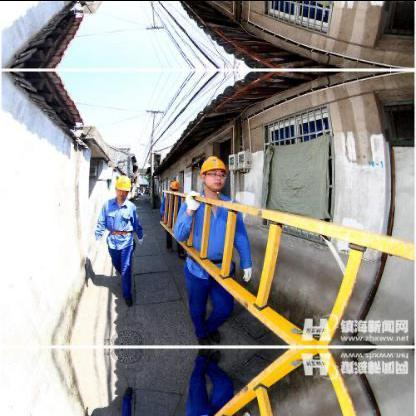Helmet: (198, 152, 228, 192), (112, 172, 132, 202), (166, 179, 178, 193)
